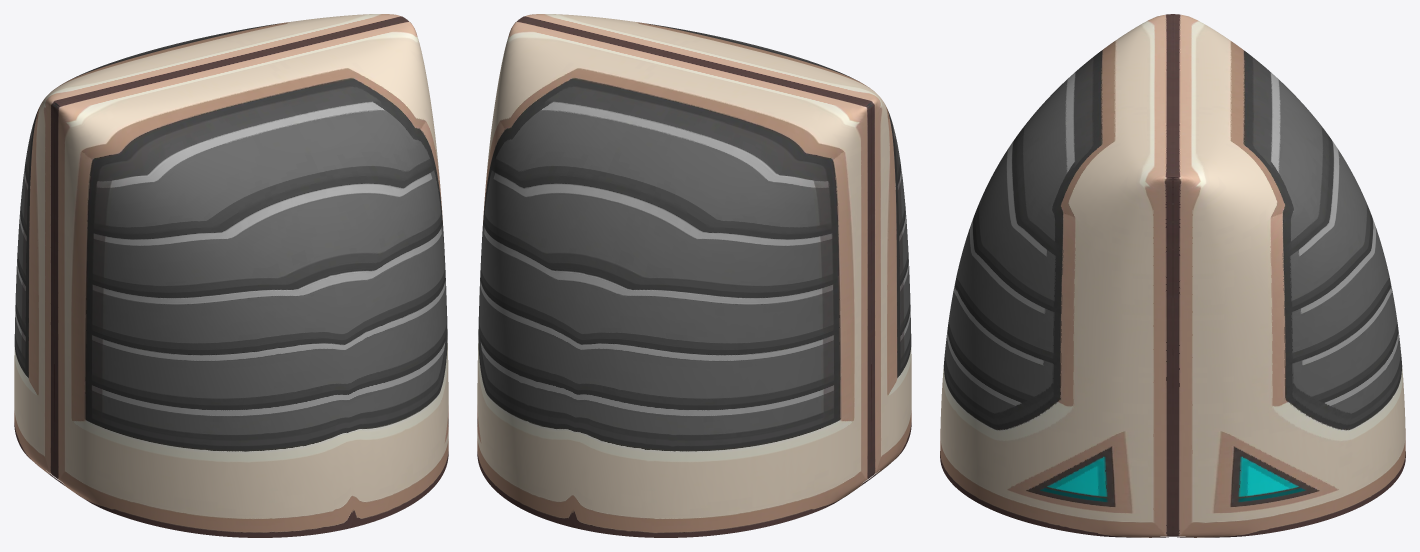
Rendered from shutter_bay.glb.
3 views of the same model, side by side, from view 1: azimuth 30°, elevation 25°; view 2: azimuth 150°, elevation 25°; view 3: azimuth 270°, elevation 25° (orthographic). The views are drawn at different scales.
Visible parts, largest first — view 1: shutter_bay; view 2: shutter_bay; view 3: shutter_bay.
Part boxes in pixels (<box>): shutter_bay: <box>14,14,448,537</box>; shutter_bay: <box>477,14,911,537</box>; shutter_bay: <box>940,14,1405,537</box>.
Bounding box in the file's own units: 0.9888 × 1.01 × 1.18.
1 material, 1 textured.
